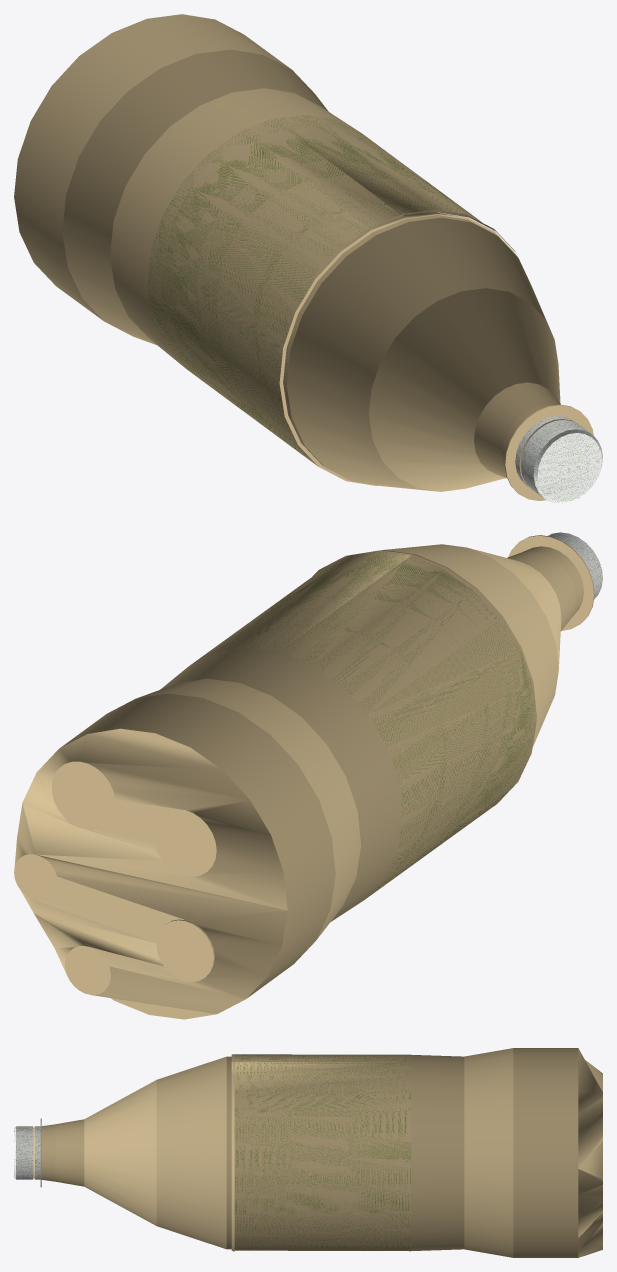
Rendered from model_align.obj.
The picture shows the model from 3 angles, top to bottom: view 1: azimuth 30°, elevation 25°; view 2: azimuth 150°, elevation 25°; view 3: azimuth 270°, elevation 25°; orthographic projection. The views are drawn at different scales.
Parts seen in each view (by area): view 1: mesh1_mesh1-geometry; view 2: mesh1_mesh1-geometry; view 3: mesh1_mesh1-geometry.
Boxes of the visible parts, x1,y1,x2,y2 form: mesh1_mesh1-geometry: (14, 14, 602, 503); mesh1_mesh1-geometry: (14, 532, 602, 1019); mesh1_mesh1-geometry: (14, 1048, 602, 1257).
Size of the model in its own units: 0.0721 by 0.0721 by 0.2012.
